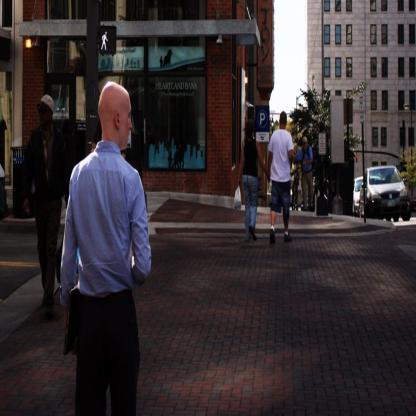Walk: (96, 26, 117, 57)
